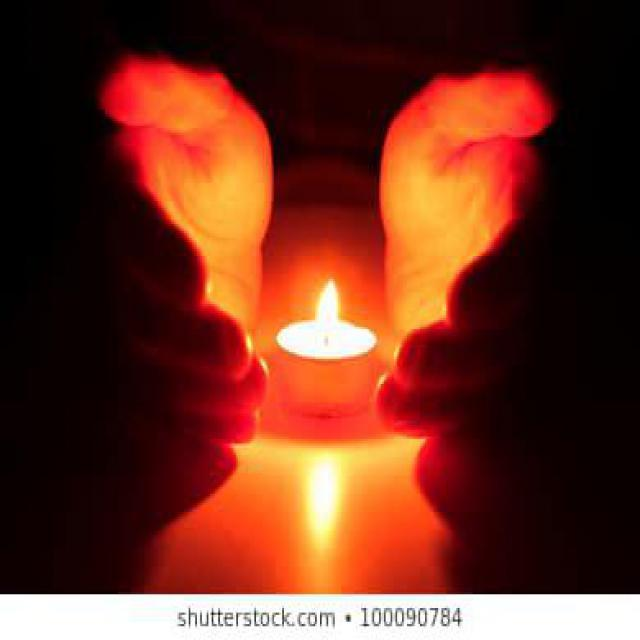Fire: (316, 280, 338, 337)
